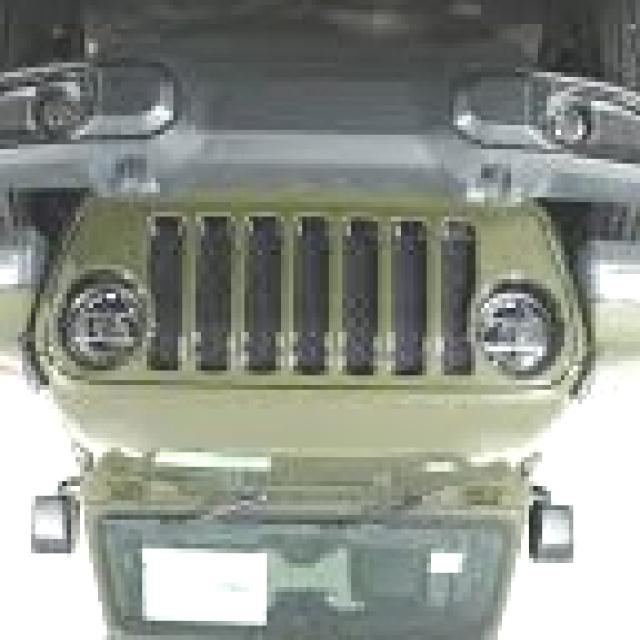green: (3, 0, 638, 640)
